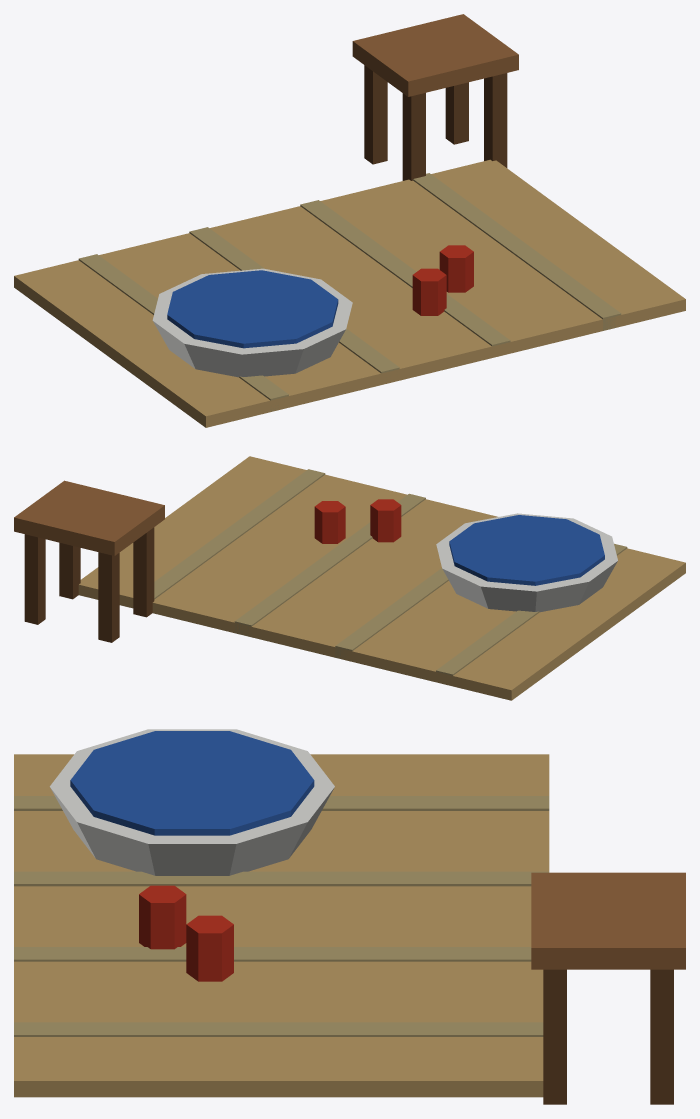
Rendered from prop_mat-stool.glb.
3 views of the same model, one above another, from view 1: azimuth 30°, elevation 25°; view 2: azimuth 150°, elevation 25°; view 3: azimuth 270°, elevation 25° (orthographic). The views are drawn at different scales.
Parts seen in each view (by area): view 1: body; view 2: body; view 3: body.
Boxes of the visible parts, x1,y1,x2,y2 form: body: [14, 14, 685, 427]; body: [14, 456, 685, 700]; body: [14, 729, 685, 1104].
Size of the model in its own units: 1.35 by 0.3 by 1.13.
